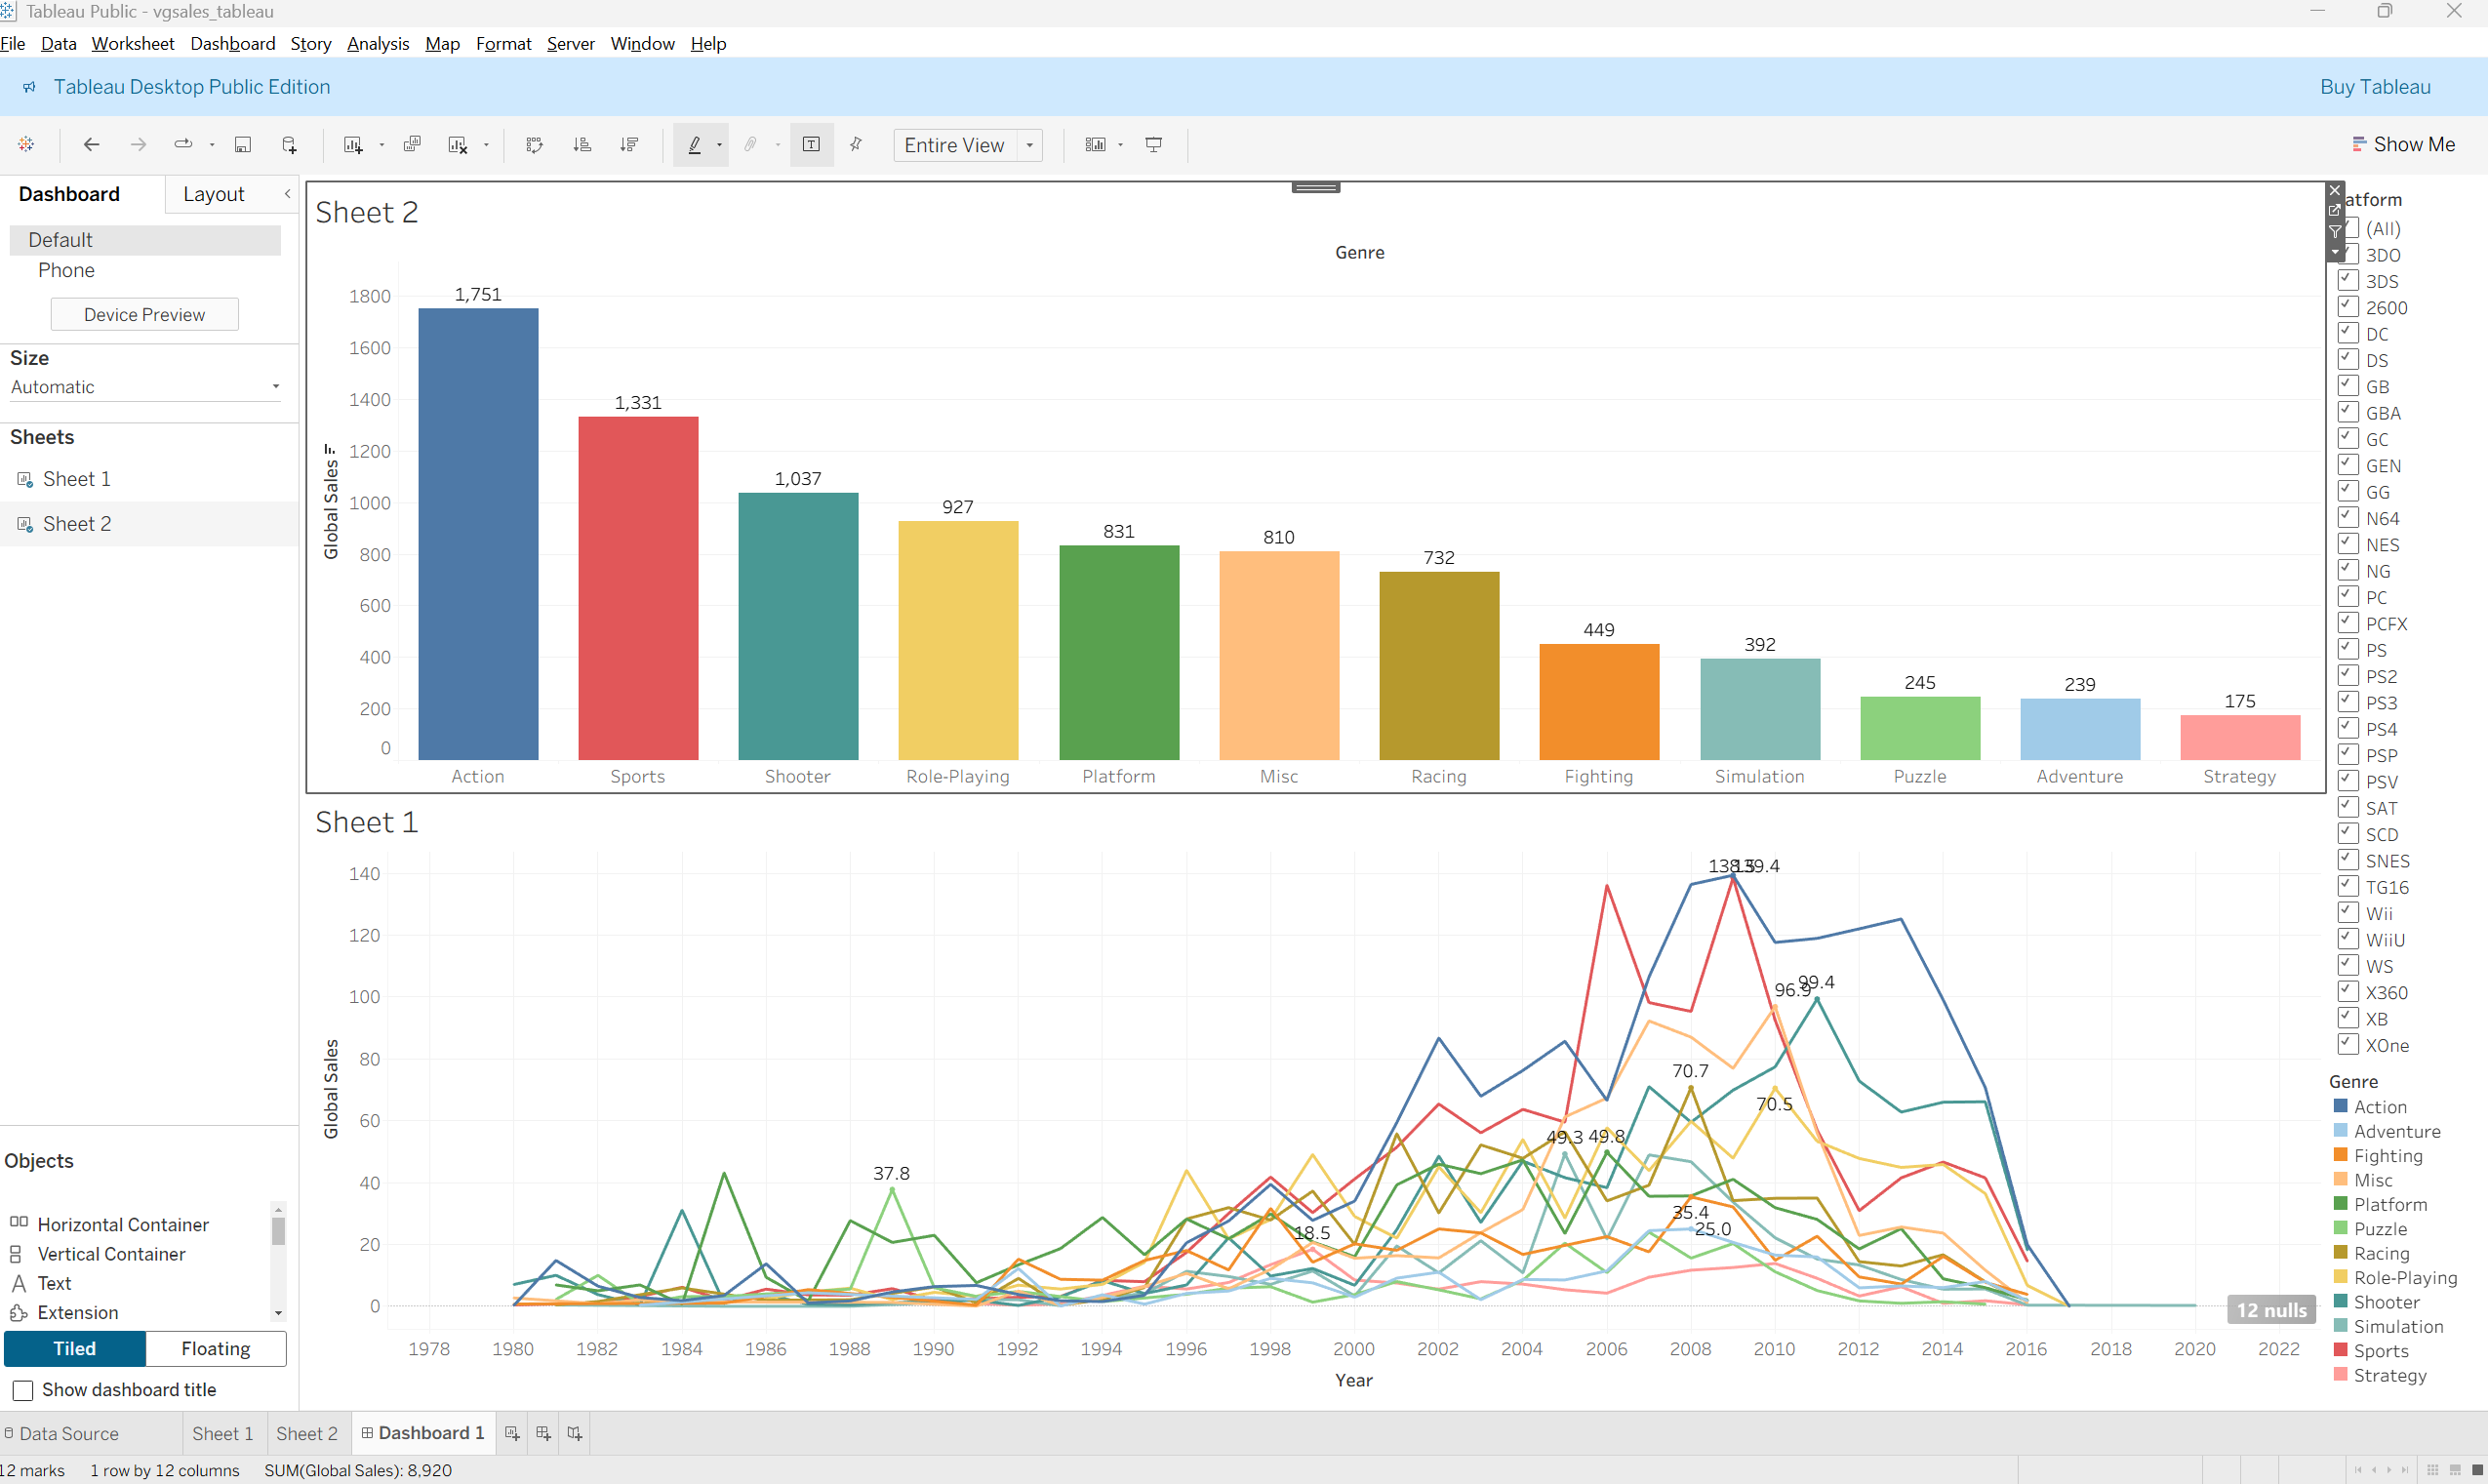

The page's visual inventory and layout, read from the dashboard file:
{"tool":"tableau","page":{"name":"Dashboard 1","canvas":[1000,1000],"units":"permille","ordinal":0},"visuals":[{"type":"worksheet","title":"Sheet 2","mark":"Automatic","rows":["Global_Sales"],"cols":["Genre"],"box":[3.6,6.3,921.6,493.7]},{"type":"filter","title":"Sheet 1","param":"[federated.1ohiisr1kdjz0j158kpte1k97w0j].[none:Platform:nk]","box":[925.1,6.3,71.3,714.1]},{"type":"worksheet","title":"Sheet 1","mark":"Automatic","rows":["Global_Sales"],"cols":["Year"],"box":[3.6,500,921.6,493.7]},{"type":"legend","title":"Sheet 1","param":"[federated.1ohiisr1kdjz0j158kpte1k97w0j].[none:Genre:nk]","box":[925.1,720.4,71.3,263.8]}]}

Visuals, with their boxes on the dashboard's canvas, which has no fixed pixel size, in thousandths of its width and height (x1, y1, x2, y2). These are canvas units, not pixel positions in the 2488x1484 screenshot, which may show the page scaled, cropped or inside an application window:
"Sheet 2" worksheet: l=4, t=6, r=925, b=500
"Sheet 1" filter: l=925, t=6, r=996, b=720
"Sheet 1" worksheet: l=4, t=500, r=925, b=994
"Sheet 1" legend: l=925, t=720, r=996, b=984
